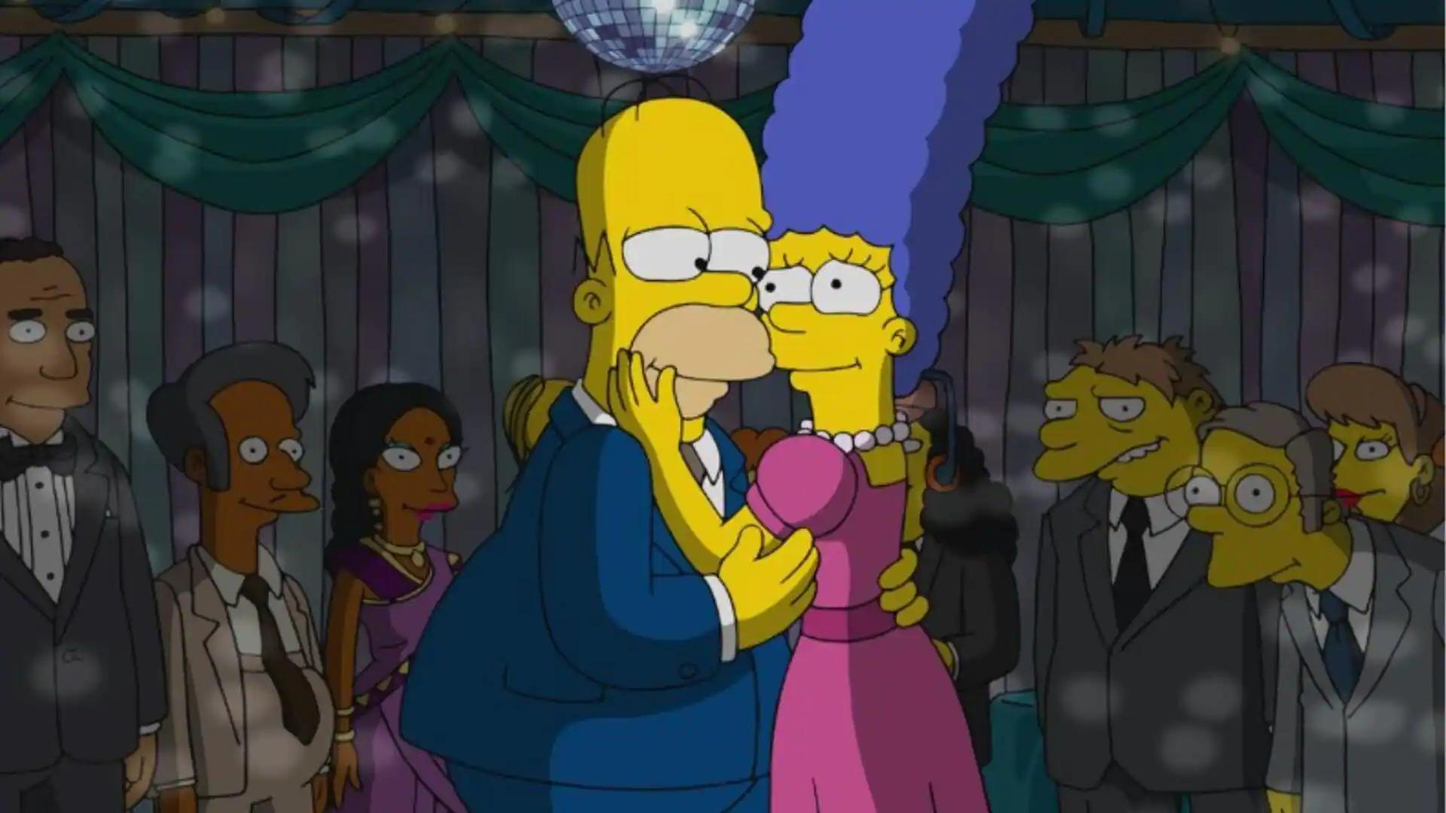Homer: (530, 86, 815, 801)
Marge: (747, 3, 1024, 813)
